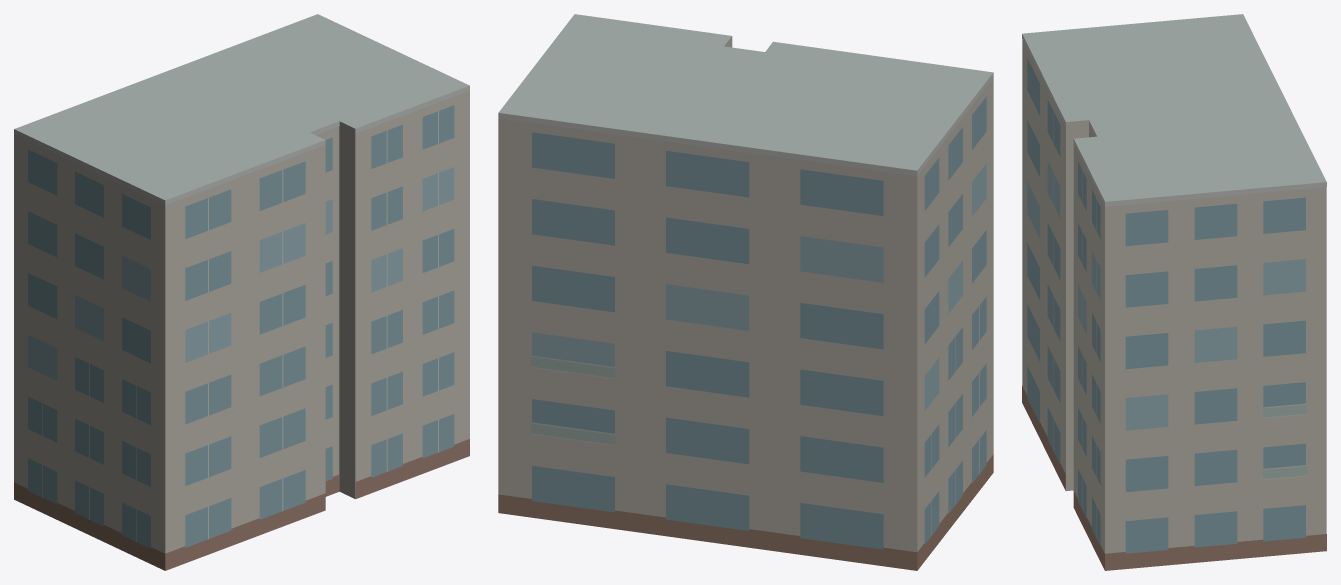
Rendered from survey-upis-32696554.glb.
3 renders of one model, left to right at view 1: azimuth 30°, elevation 25°; view 2: azimuth 150°, elevation 25°; view 3: azimuth 270°, elevation 25°, orthographic. The views are drawn at different scales.
Parts seen in each view (by area): view 1: survey-upis-32696554.tmp; view 2: survey-upis-32696554.tmp; view 3: survey-upis-32696554.tmp.
Boxes of the visible parts, x1,y1,x2,y2 form: survey-upis-32696554.tmp: [14, 14, 469, 570]; survey-upis-32696554.tmp: [498, 14, 993, 570]; survey-upis-32696554.tmp: [1022, 14, 1326, 570].
Bounding box in the file's own units: 19.99 × 18.3 × 13.7.
